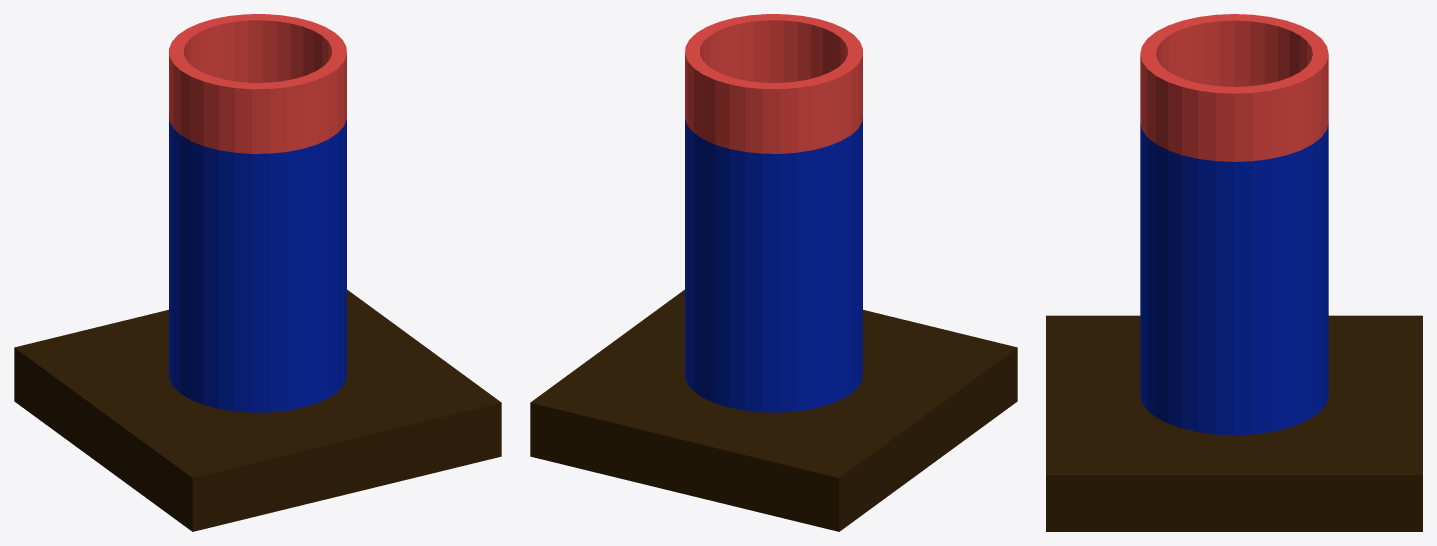
The model's file is tsutsu.fbx.
3 views of the same model, side by side, from view 1: azimuth 30°, elevation 25°; view 2: azimuth 150°, elevation 25°; view 3: azimuth 270°, elevation 25° (orthographic). The views are drawn at different scales.
Parts seen in each view (by area): view 1: Cylinder, Cube; view 2: Cylinder, Cube; view 3: Cylinder, Cube.
Boxes of the visible parts, x1=… form: Cylinder: x1=169, y1=14, x2=346, y2=412; Cube: x1=14, y1=289, x2=501, y2=531; Cylinder: x1=685, y1=14, x2=862, y2=412; Cube: x1=530, y1=289, x2=1017, y2=531; Cylinder: x1=1140, y1=14, x2=1328, y2=435; Cube: x1=1046, y1=315, x2=1422, y2=531.
Size of the model in its own units: 600 by 700 by 600.
